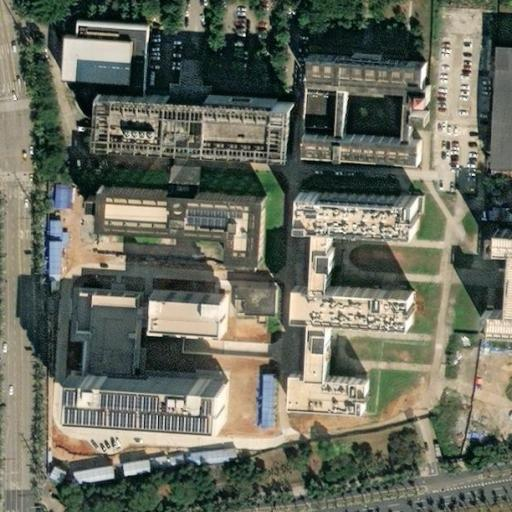building: (267, 198, 415, 408), (75, 182, 258, 263), (85, 105, 284, 172), (56, 383, 214, 438), (48, 12, 138, 88), (59, 280, 126, 365), (311, 62, 439, 98), (485, 44, 512, 174), (480, 221, 512, 328), (143, 284, 221, 327), (312, 146, 429, 173), (228, 278, 277, 316), (411, 97, 437, 153), (306, 94, 339, 133), (181, 449, 229, 466), (65, 469, 107, 486), (346, 93, 358, 146), (114, 461, 144, 479), (46, 241, 58, 274), (41, 221, 53, 241), (141, 457, 158, 470), (47, 189, 59, 207), (157, 457, 176, 468), (175, 458, 181, 464)
